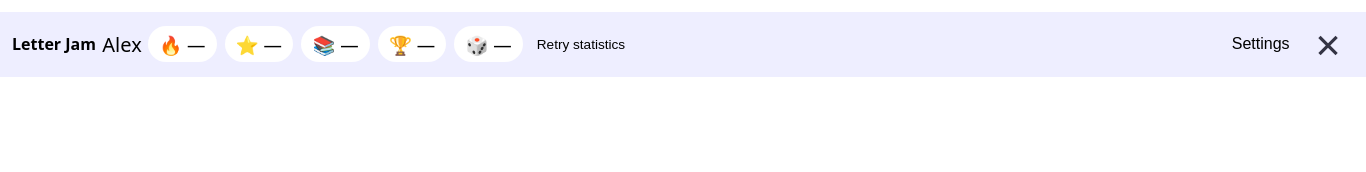
shows unavailable values and retries a failed request
The width and height of the screenshot is (1366, 172).
Expected: the button named "Rounds played · Letter Jam: unavailable" is shown, [454,26,523,62]
Click the button "Retry statistics".
click(581, 44)  # box [531,26,631,62]
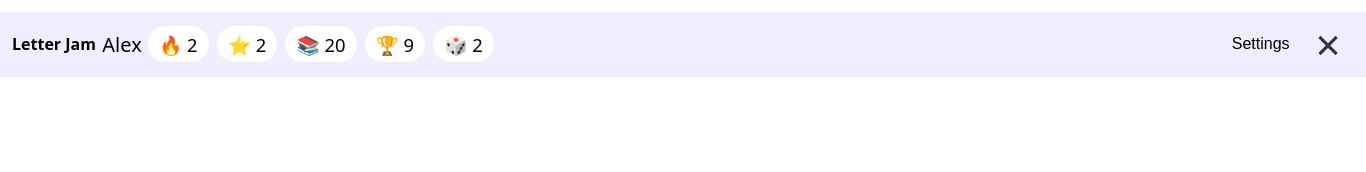
Expected: the button named "Rounds played · Letter Jam: 2" is shown, [433,26,494,62]
